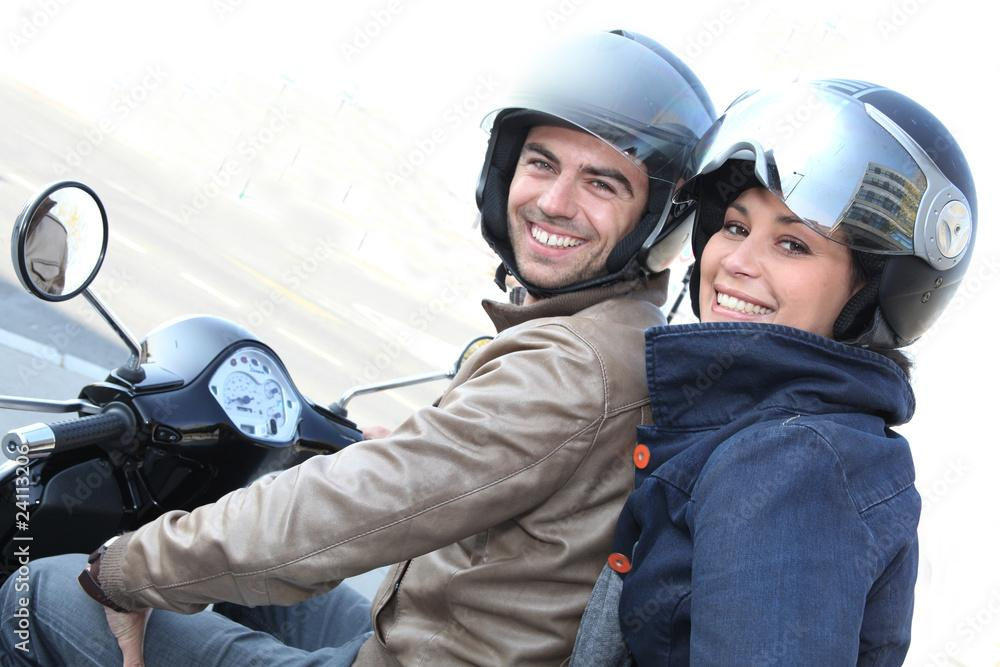helmet: (669, 74, 981, 352), (472, 26, 730, 303)
